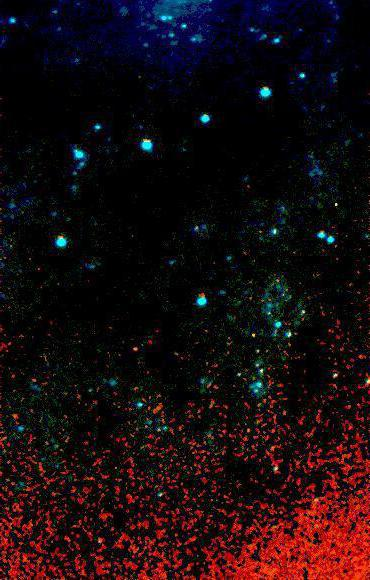star: (1, 401, 31, 431)
